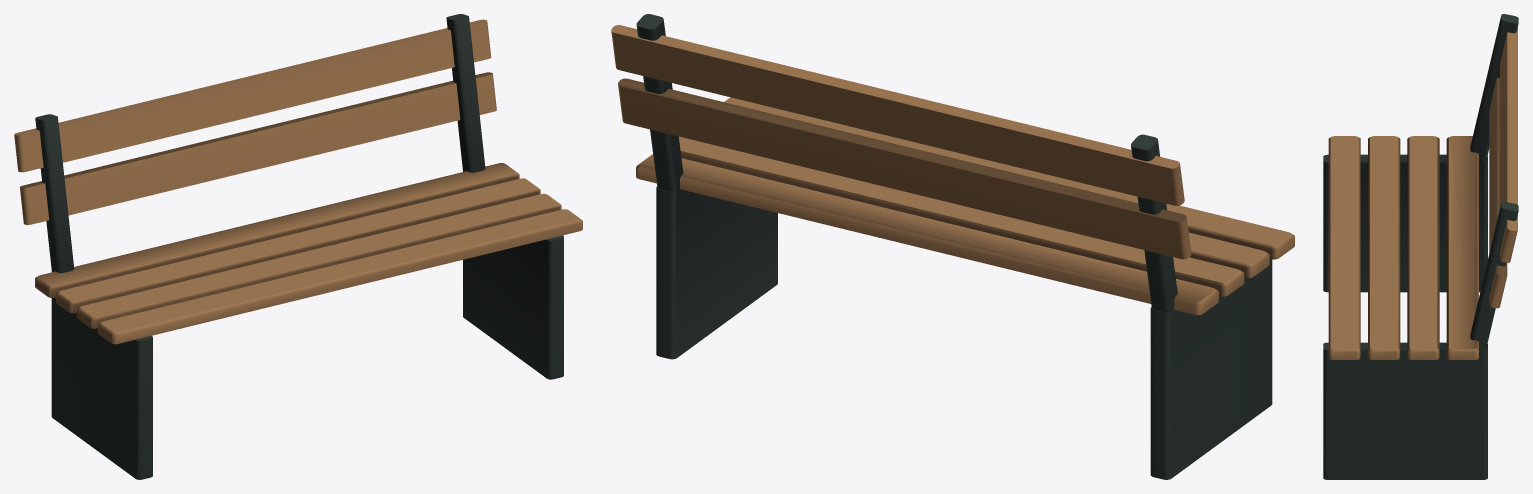
The model's file is ghe-bang.glb.
3 renders of one model, left to right at view 1: azimuth 30°, elevation 25°; view 2: azimuth 150°, elevation 25°; view 3: azimuth 270°, elevation 25°, orthographic. The views are drawn at different scales.
Parts seen in each view (by area): view 1: ghe-bang; view 2: ghe-bang; view 3: ghe-bang.
Boxes of the visible parts, x1,y1,x2,y2 form: ghe-bang: (14,14,582,479); ghe-bang: (611,14,1294,479); ghe-bang: (1323,14,1518,479).
Bounding box in the file's own units: 1.42 × 0.8356 × 0.5459.
